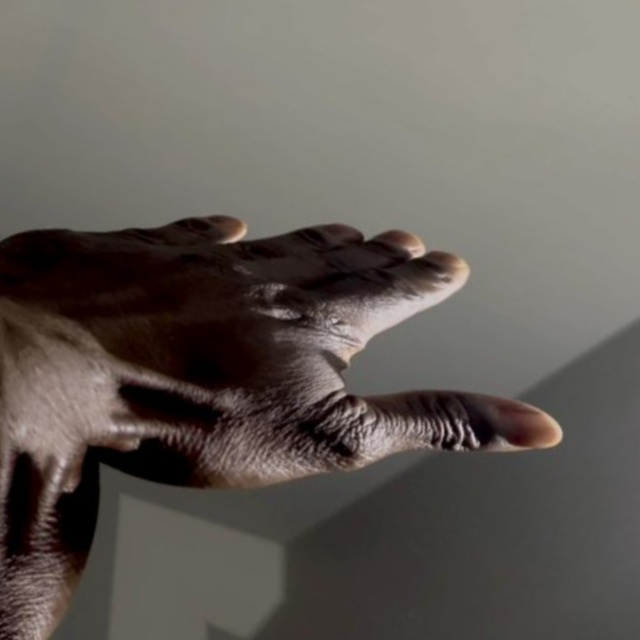Paper: (0, 0, 253, 47)
